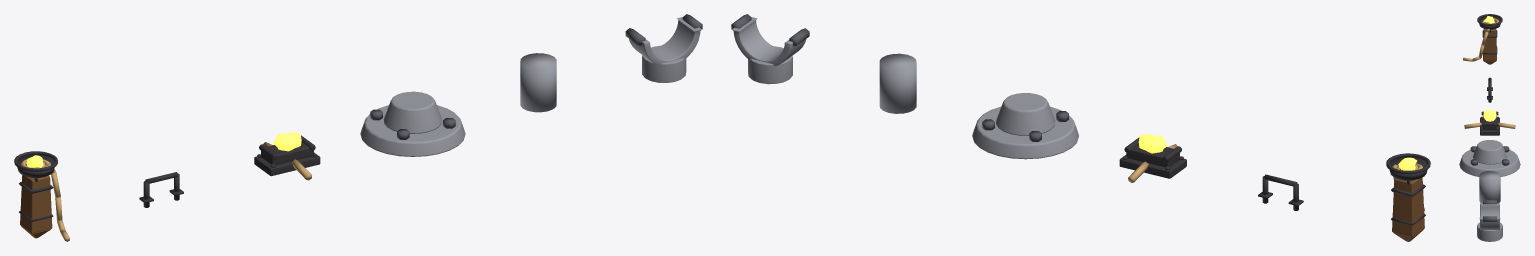
File: PieceKit.fbx
3 views of the same model, side by side, from view 1: azimuth 30°, elevation 25°; view 2: azimuth 150°, elevation 25°; view 3: azimuth 270°, elevation 25° (orthographic). The views are drawn at different scales.
Parts seen in each view (by area): view 1: PC_RailBase_Steel, PC_RailClamp_Steel, PC_RailPole_Steel, PC_FuseStake_Wood, PC_FuseSplice_Iron, PC_FuseStake_Iron, PC_FuseStaple_Iron, PC_FuseStake_Cord, PC_FuseSplice_Tinder, PC_RailBase_Bolt, PC_RailClamp_Bolt; view 2: PC_RailBase_Steel, PC_RailClamp_Steel, PC_RailPole_Steel, PC_FuseStake_Wood, PC_FuseSplice_Iron, PC_FuseStake_Iron, PC_FuseStaple_Iron, PC_FuseSplice_Tinder, PC_RailBase_Bolt, PC_RailClamp_Bolt; view 3: PC_RailBase_Steel, PC_RailClamp_Steel, PC_RailPole_Steel, PC_FuseStake_Wood, PC_FuseSplice_Iron, PC_FuseStake_Iron, PC_FuseStake_Cord, PC_RailBase_Bolt, PC_FuseSplice_Cord, PC_RailClamp_Bolt, PC_FuseSplice_Tinder, PC_FuseStaple_Iron (+1 smaller).
Part boxes in pixels (x1,y1,x2,y2): PC_RailBase_Steel: (360, 91, 465, 156); PC_RailClamp_Steel: (629, 17, 701, 82); PC_RailPole_Steel: (520, 53, 556, 112); PC_FuseStake_Wood: (20, 175, 52, 238); PC_FuseSplice_Iron: (254, 135, 320, 176); PC_FuseStake_Iron: (14, 151, 57, 221); PC_FuseStaple_Iron: (139, 172, 183, 207); PC_FuseStake_Cord: (21, 159, 69, 241); PC_FuseSplice_Tinder: (273, 132, 301, 151); PC_RailBase_Bolt: (370, 109, 455, 139); PC_RailClamp_Bolt: (625, 14, 702, 46); PC_RailBase_Steel: (972, 93, 1078, 159); PC_RailClamp_Steel: (732, 17, 806, 84); PC_RailPole_Steel: (879, 53, 916, 113); PC_FuseStake_Wood: (1392, 177, 1424, 241); PC_FuseSplice_Iron: (1119, 137, 1186, 178); PC_FuseStake_Iron: (1386, 153, 1430, 225); PC_FuseStaple_Iron: (1258, 174, 1303, 210); PC_FuseSplice_Tinder: (1138, 134, 1167, 153); PC_RailBase_Bolt: (982, 111, 1068, 141); PC_RailClamp_Bolt: (731, 14, 809, 46); PC_RailBase_Steel: (1459, 140, 1520, 176); PC_RailClamp_Steel: (1477, 203, 1502, 241); PC_RailPole_Steel: (1479, 171, 1500, 203); PC_FuseStake_Wood: (1483, 28, 1496, 64); PC_FuseSplice_Iron: (1480, 111, 1499, 135); PC_FuseStake_Iron: (1477, 14, 1502, 54); PC_FuseStake_Cord: (1463, 18, 1498, 61); PC_RailBase_Bolt: (1470, 146, 1509, 165); PC_FuseSplice_Cord: (1464, 122, 1515, 128); PC_RailClamp_Bolt: (1483, 200, 1496, 221); PC_FuseSplice_Tinder: (1483, 110, 1496, 121); PC_FuseStaple_Iron: (1487, 77, 1492, 102).
Size of the model in its own units: 1623 by 188 by 217.
